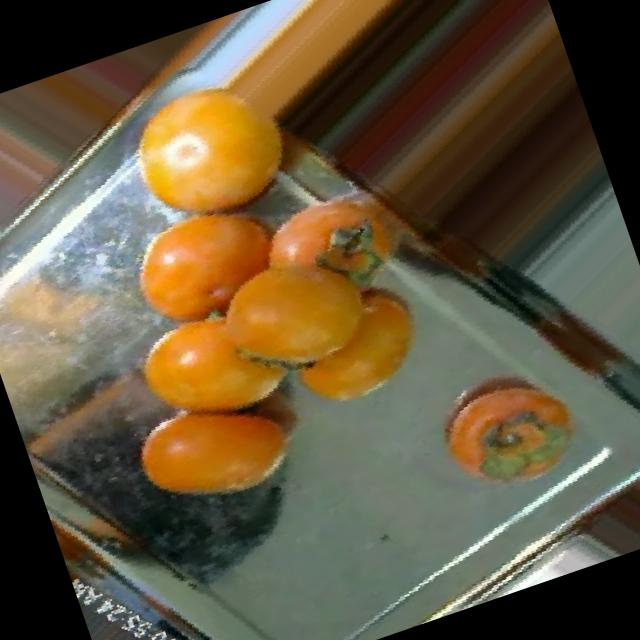Fruit: (88, 36, 338, 264), (98, 348, 352, 550), (237, 224, 462, 444), (403, 333, 614, 530)
